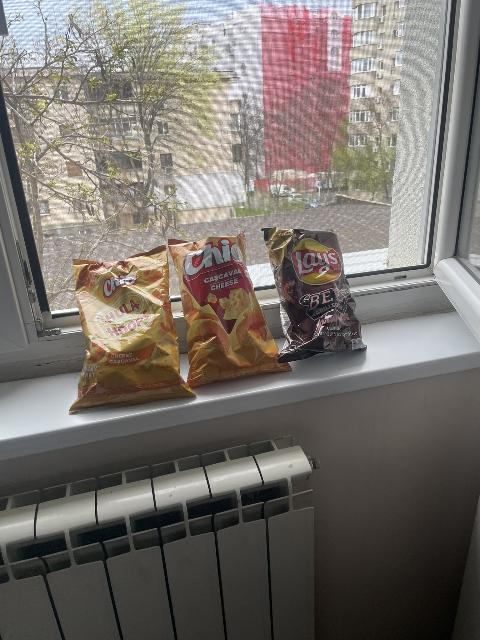Chio Cascaval 125g: (174, 232, 290, 386)
Chio Hula Hoops Cheese 70g: (67, 246, 195, 413)
Lays Beef Grilled Ribs 125g: (266, 226, 368, 360)
